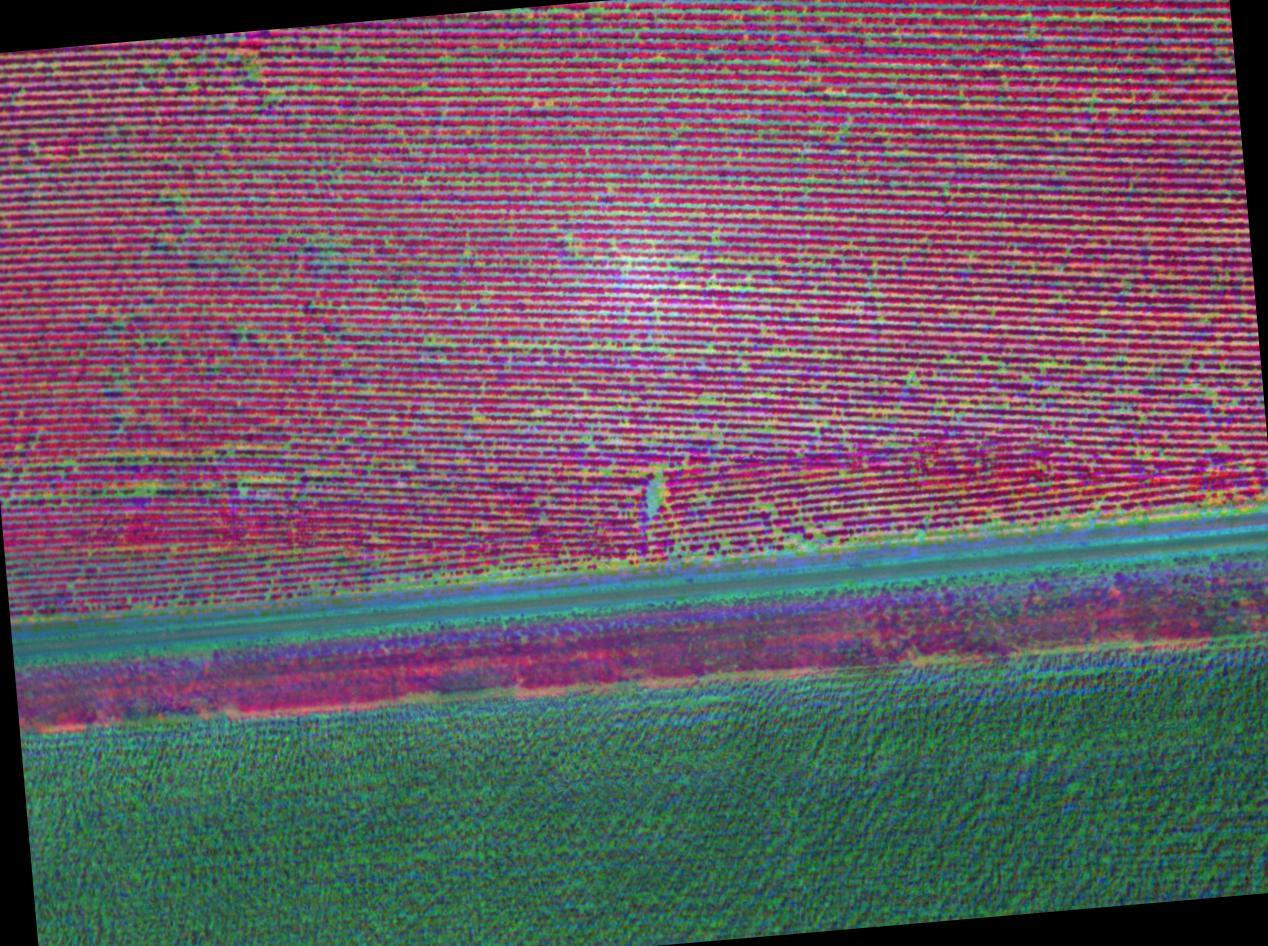dc: (650, 501, 655, 507), (652, 483, 656, 488), (465, 254, 469, 258), (703, 395, 707, 399), (196, 222, 199, 225), (690, 254, 693, 257), (475, 414, 478, 417), (67, 461, 70, 464)
